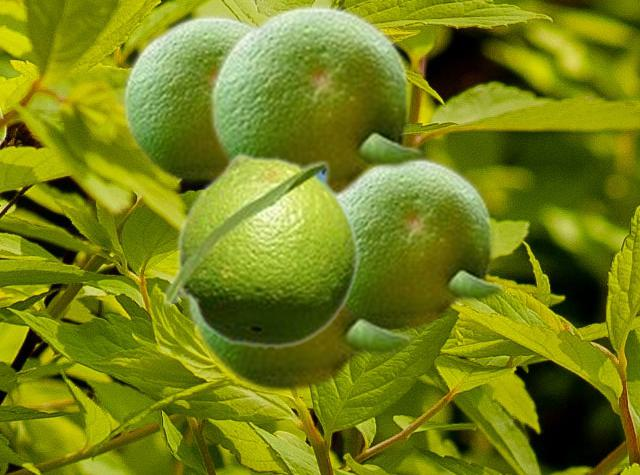dalandan: (207, 0, 425, 196), (161, 152, 360, 349), (342, 153, 506, 331), (120, 11, 253, 184), (183, 300, 416, 392)
